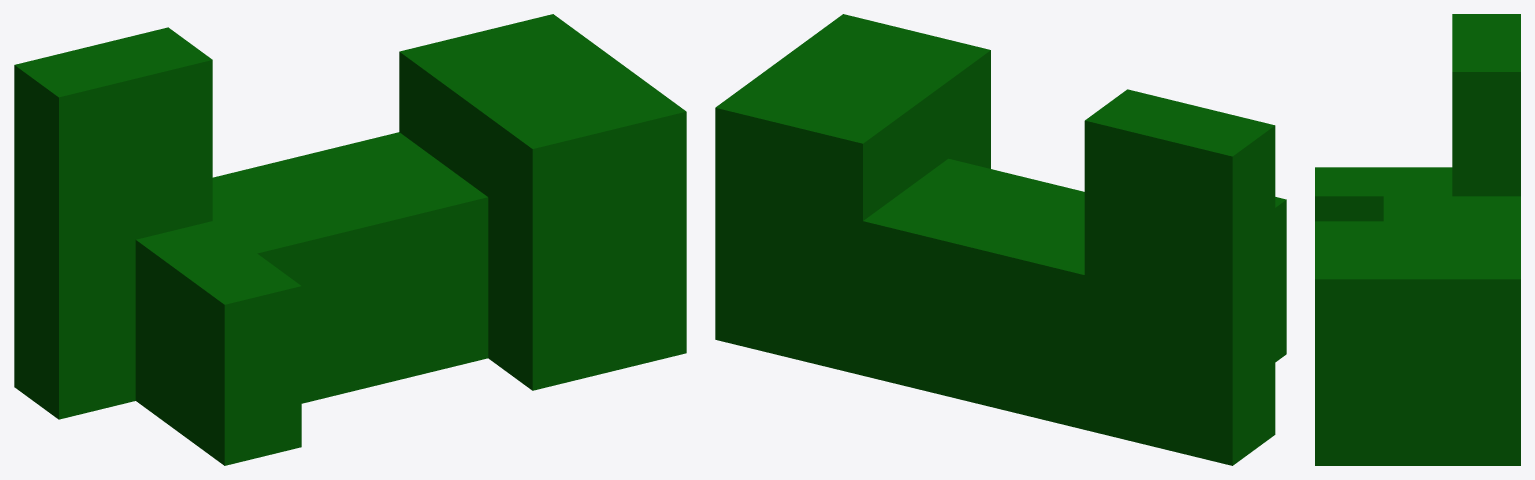
The picture shows the model from 3 angles, left to right: view 1: azimuth 30°, elevation 25°; view 2: azimuth 150°, elevation 25°; view 3: azimuth 270°, elevation 25°; orthographic projection. The views are drawn at different scales.
Parts seen in each view (by area): view 1: SketchUp; view 2: SketchUp; view 3: SketchUp.
Part boxes in pixels (x1,y1,x2,y2): SketchUp: (14,14,686,465); SketchUp: (715,14,1286,465); SketchUp: (1315,14,1520,465).
Size of the model in its own units: 276 by 118 by 157.
